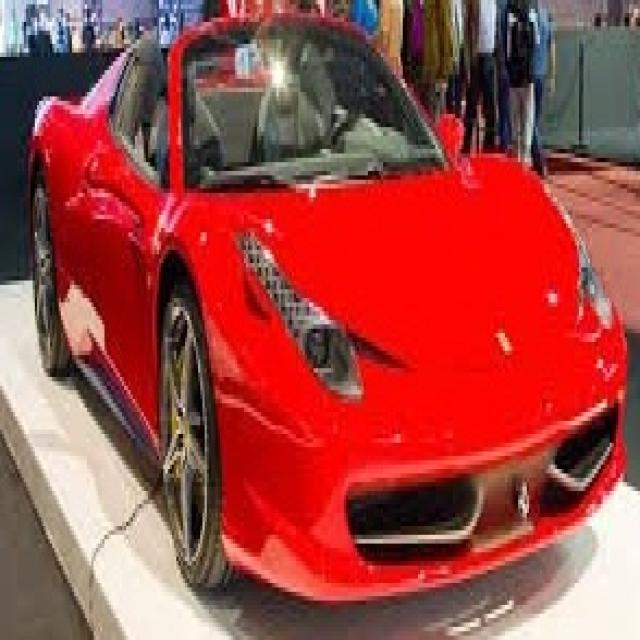red: (25, 27, 640, 547)
